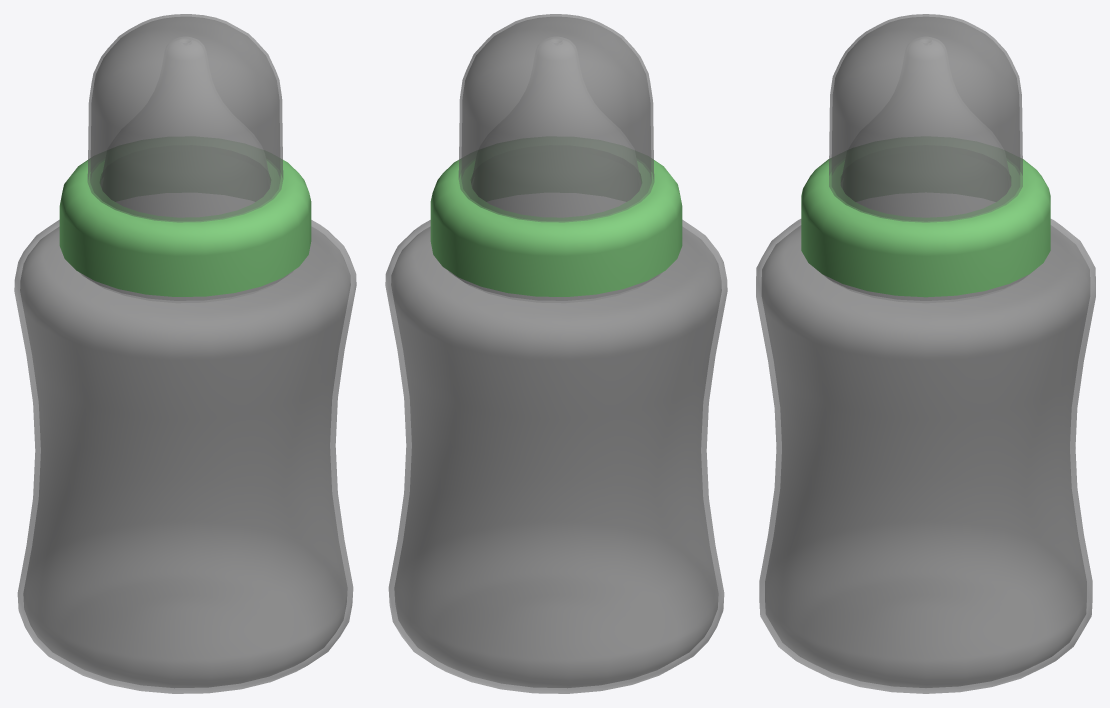
The model's file is Bottle_M.fbx.
3 renders of one model, left to right at view 1: azimuth 30°, elevation 25°; view 2: azimuth 150°, elevation 25°; view 3: azimuth 270°, elevation 25°, orthographic.
Visible parts, largest first — view 1: Bottle_M; view 2: Bottle_M; view 3: Bottle_M.
Part boxes in pixels (left/top/right/bottom): Bottle_M: left=14, top=14, right=356, bottom=693; Bottle_M: left=385, top=14, right=727, bottom=693; Bottle_M: left=756, top=14, right=1095, bottom=693.
Size of the model in its own units: 32.61 by 64 by 32.37.
2 materials, 1 textured.
